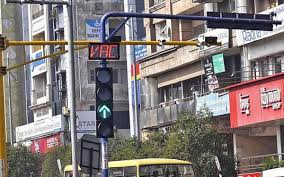signal: (95, 66, 113, 138)
